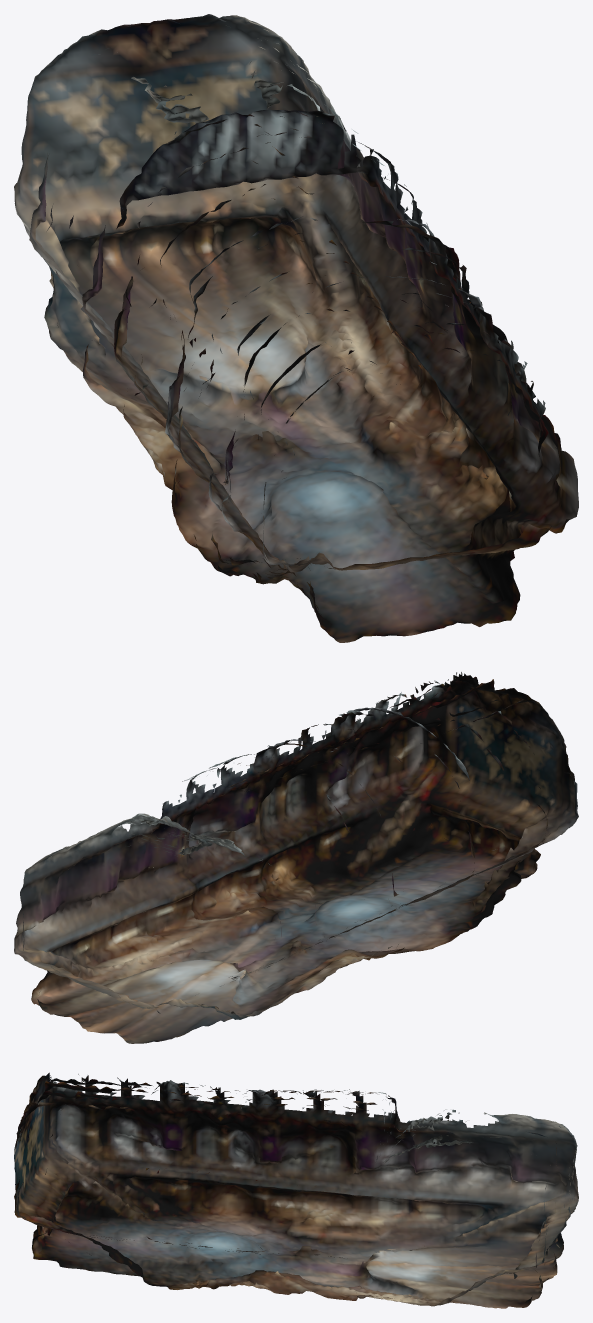
Rendered from collider.glb.
3 renders of one model, top to bottom at view 1: azimuth 30°, elevation 25°; view 2: azimuth 150°, elevation 25°; view 3: azimuth 270°, elevation 25°, orthographic. The views are drawn at different scales.
Parts seen in each view (by area): view 1: world; view 2: world; view 3: world.
Part boxes in pixels (<box>): world: <box>14,14,578,642</box>; world: <box>14,672,578,1043</box>; world: <box>14,1072,578,1308</box>.
Size of the model in its own units: 19.72 by 12.32 by 36.72.
